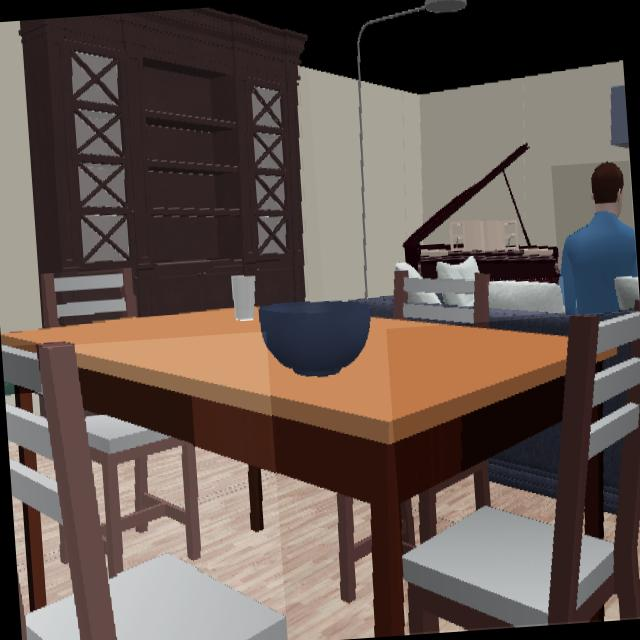bookshelf: (20, 8, 305, 316)
chair: (5, 344, 286, 640), (402, 311, 640, 631), (85, 415, 200, 574), (41, 270, 135, 325), (1, 347, 41, 391)
person: (560, 161, 638, 313)
pillow: (489, 280, 564, 312), (436, 256, 478, 280), (442, 294, 473, 305)
table: (1, 308, 566, 632)
